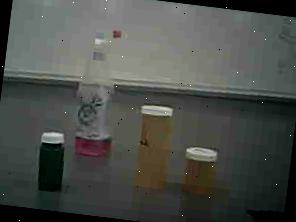Bottle A: (129, 100, 182, 196)
Bottle B: (178, 143, 224, 201)
Bottle C: (33, 129, 72, 195)
hazard: (69, 21, 136, 165)
